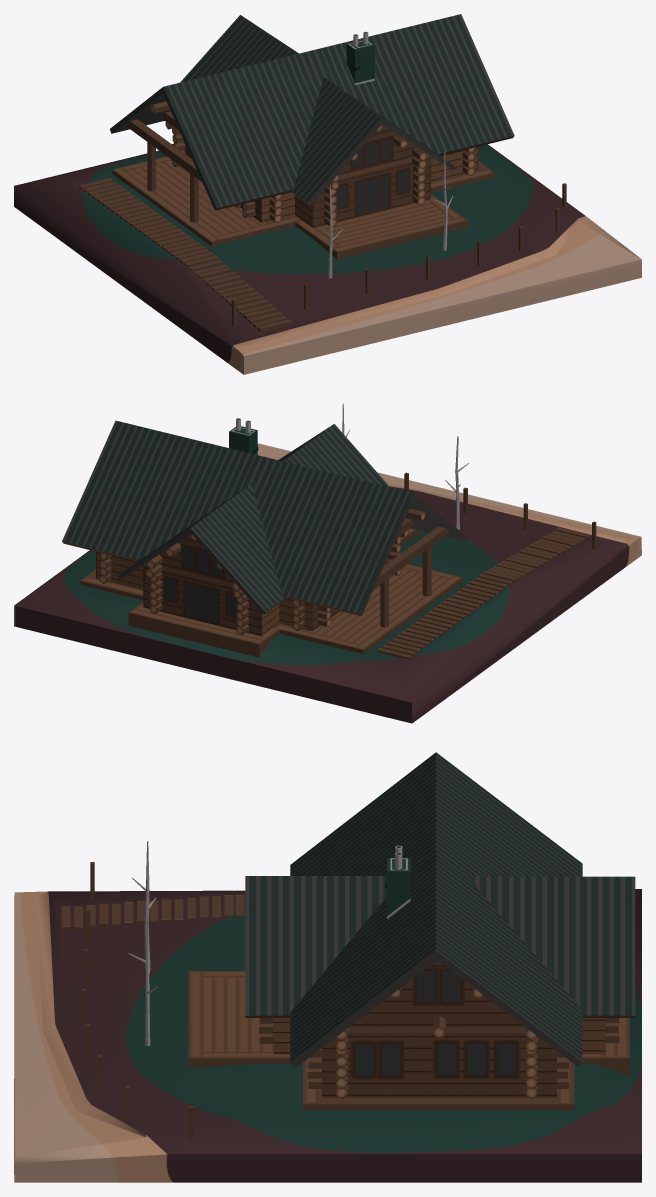
The model's file is Log cabin scene.glb.
The picture shows the model from 3 angles, top to bottom: view 1: azimuth 30°, elevation 25°; view 2: azimuth 150°, elevation 25°; view 3: azimuth 270°, elevation 25°; orthographic projection. The views are drawn at different scales.
Visible parts, largest first — view 1: Cottage, Environment, Fence; view 2: Cottage, Environment, Fence; view 3: Cottage, Environment, Fence.
Boxes of the visible parts, x1,y1,x2,y2 form: Cottage: (110, 14, 514, 259); Environment: (14, 144, 641, 374); Fence: (232, 183, 566, 326); Cottage: (62, 418, 466, 657); Environment: (14, 403, 641, 723); Fence: (404, 472, 596, 549); Cottage: (188, 752, 635, 1109); Environment: (14, 841, 641, 1182); Fence: (81, 862, 193, 1140).
Size of the model in its own units: 2000 by 840 by 2001.
Materials: 2 (2 with a texture image).
